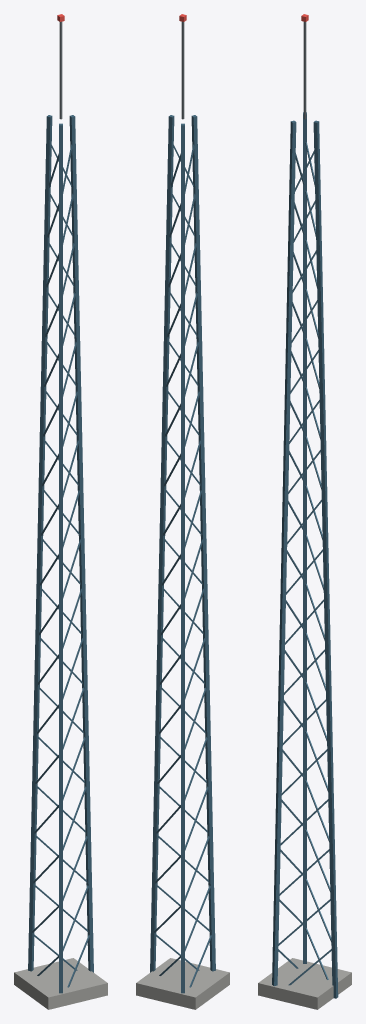
The model's file is pad_lightning_mast.fbx.
3 renders of one model, left to right at view 1: azimuth 30°, elevation 25°; view 2: azimuth 150°, elevation 25°; view 3: azimuth 330°, elevation 25°, orthographic.
Visible parts, largest first — view 1: pad_lightning_mast; view 2: pad_lightning_mast; view 3: pad_lightning_mast.
Boxes of the visible parts, x1,y1,x2,y2 form: pad_lightning_mast: (14,14,107,1009); pad_lightning_mast: (136,14,229,1009); pad_lightning_mast: (258,14,351,1009).
Size of the model in its own units: 5.21 by 78.34 by 5.
